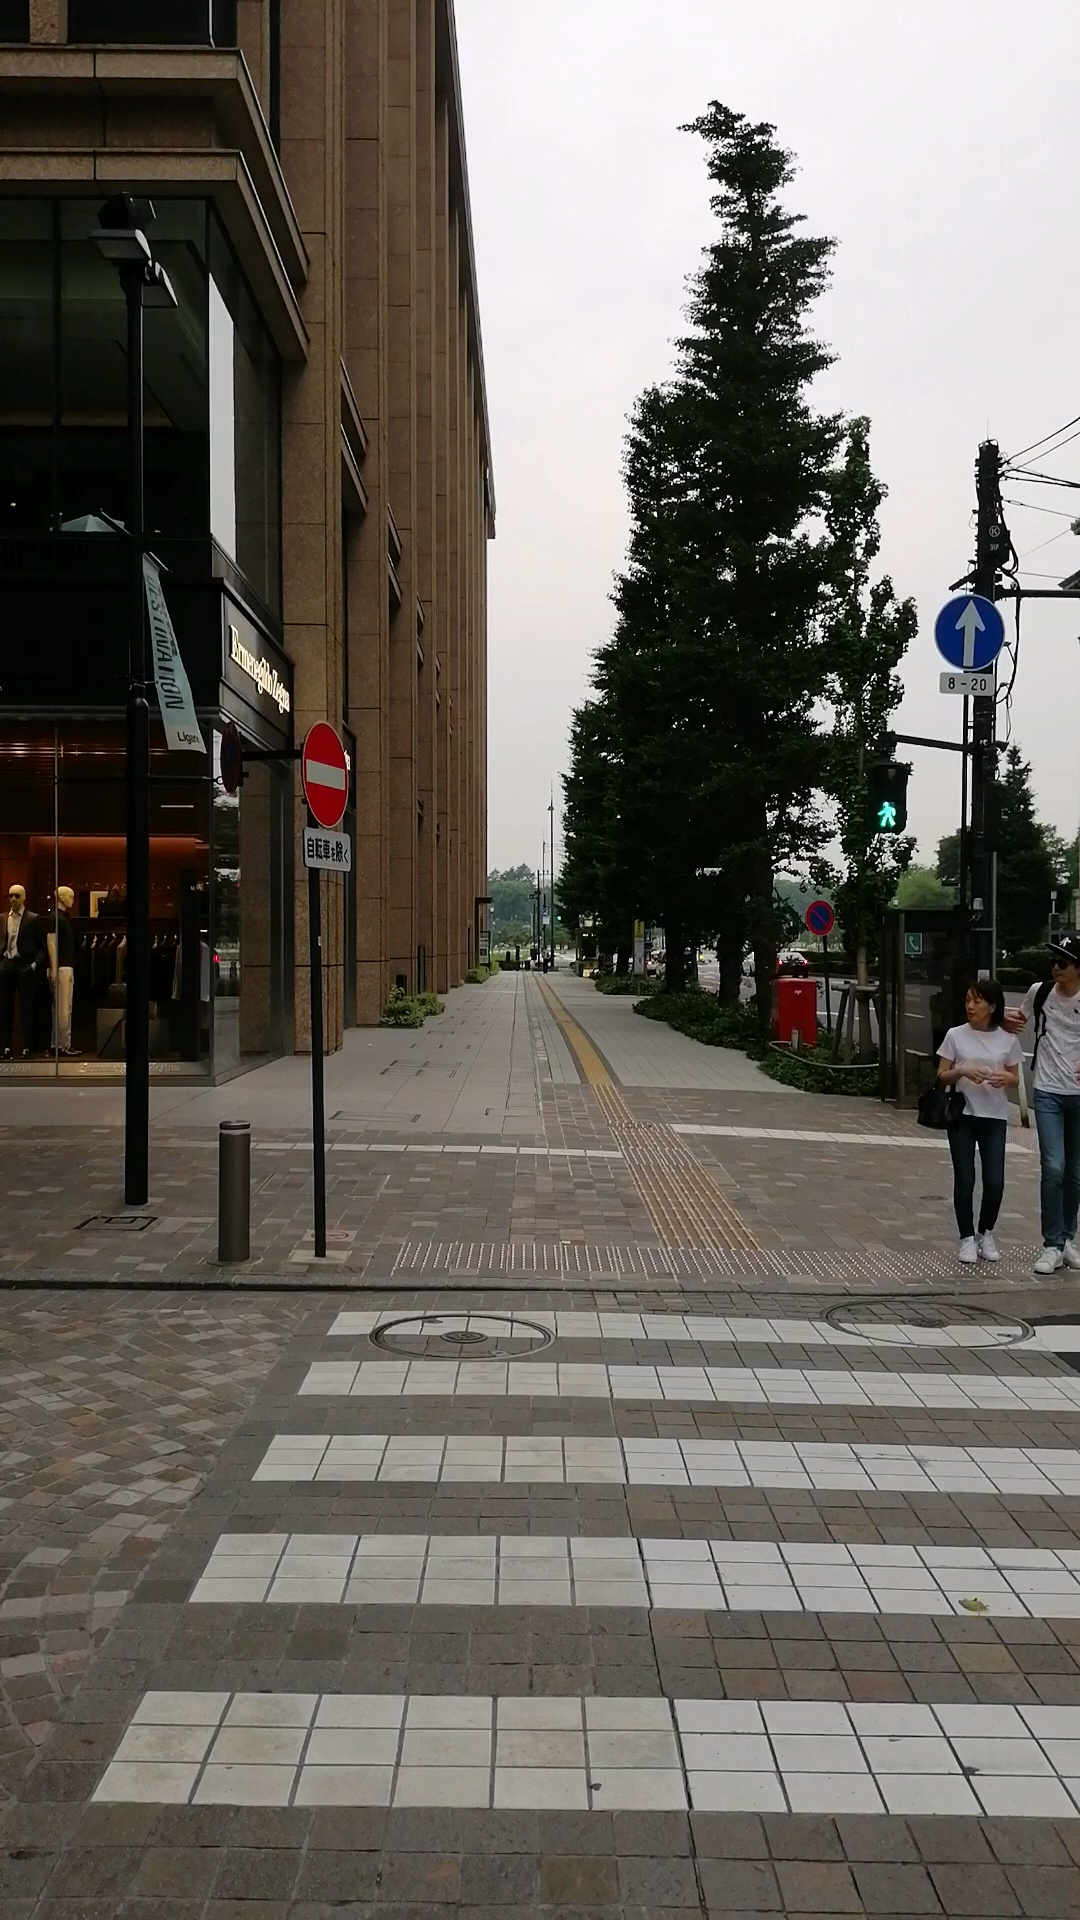green: (864, 764, 907, 837)
